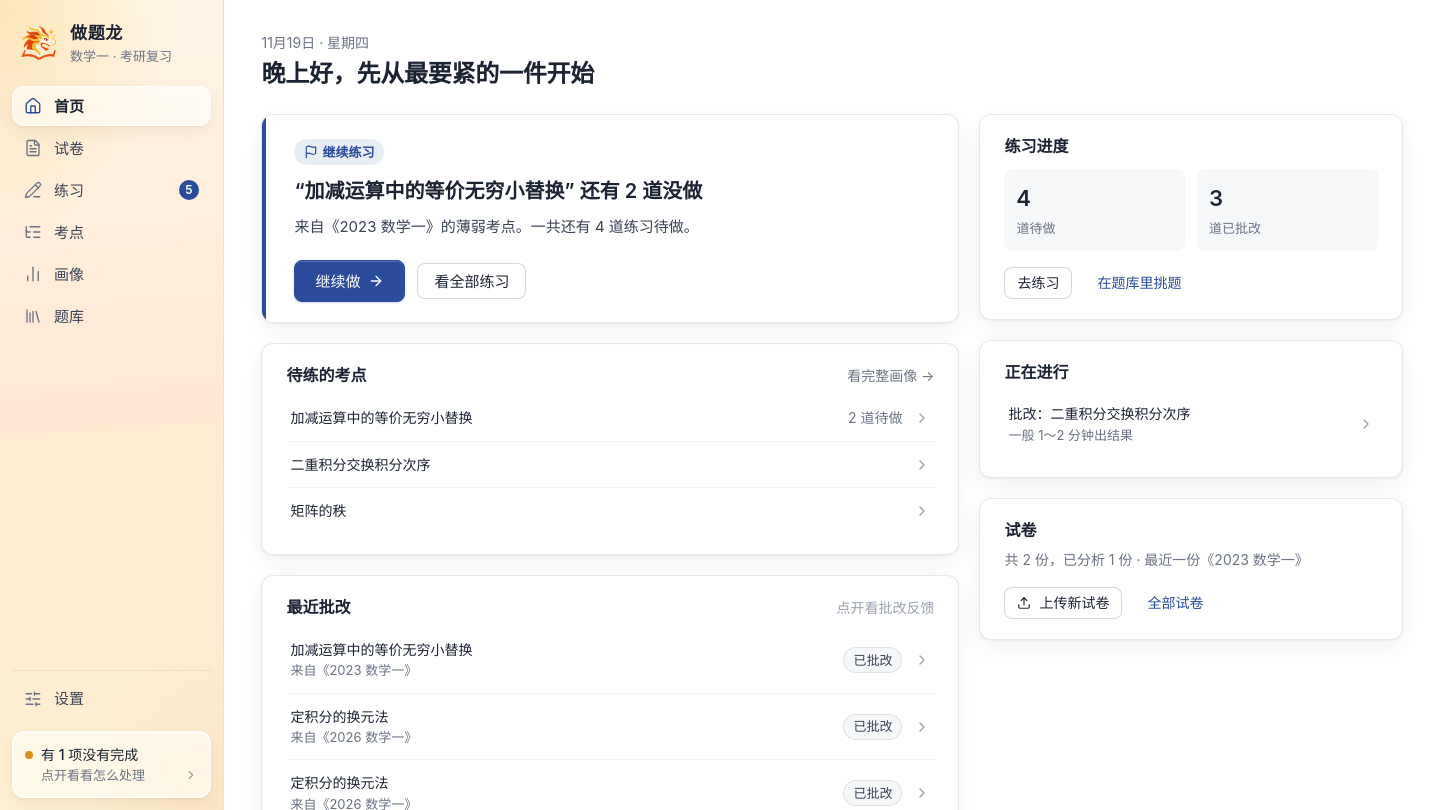
Test: offers cancel next to retry when the task allows it
Later steps or results of the test are not shown.
Click the button with aria-label "后台进度，点开查看全部": (112, 764) top-left (12, 731), bottom-right (211, 798)
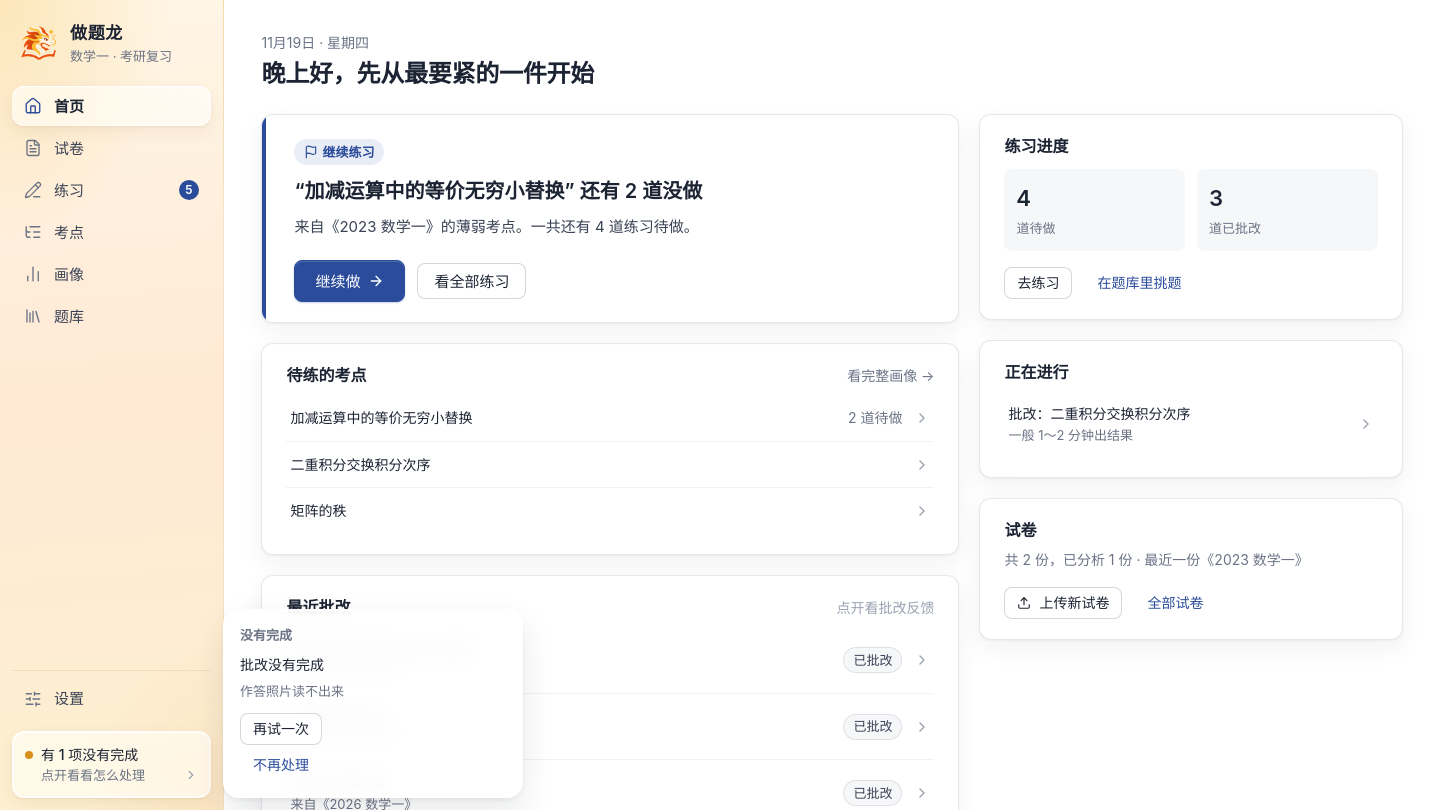
Now the button "再试一次" is shown, box top-left (240, 713), bottom-right (322, 745)
